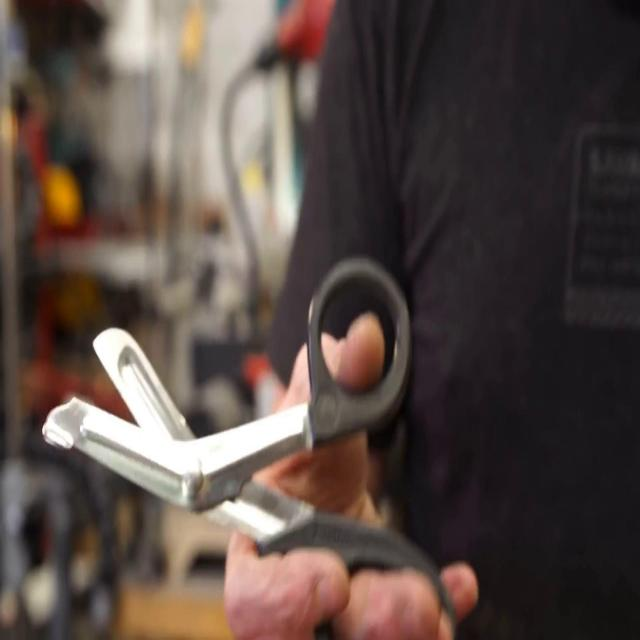scissor: (42, 262, 456, 639)
